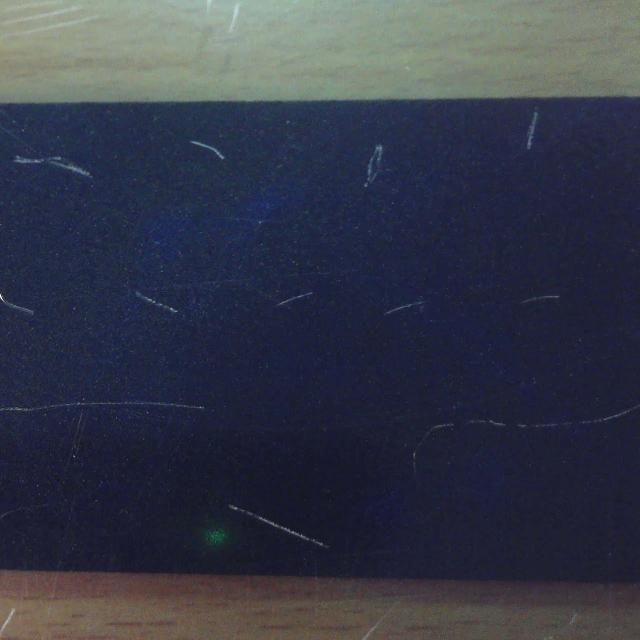defect: (412, 402, 640, 476), (227, 502, 336, 558), (15, 153, 94, 181), (3, 402, 211, 409), (134, 290, 182, 318), (1, 292, 36, 320), (366, 142, 386, 187), (192, 138, 226, 162), (521, 109, 540, 151), (275, 289, 316, 307), (521, 294, 558, 310), (387, 298, 429, 312)
